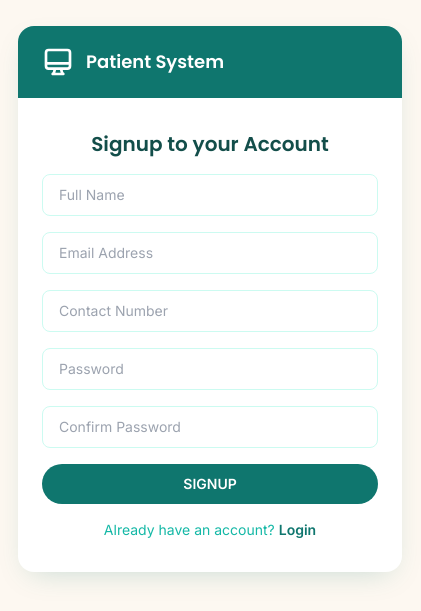
Test: Signup page › shows an error for an invalid contact number
Type "Alina Joe" into the field with placeholder "Full Name". click: (210,195)
box: top-left (42, 174), bottom-right (378, 216)
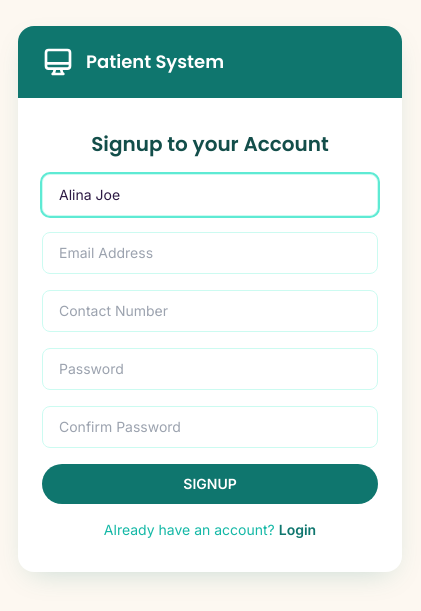
Type "alina@example.com" into the field with placeholder "Email Address". click: (210,253)
box: top-left (42, 232), bottom-right (378, 274)
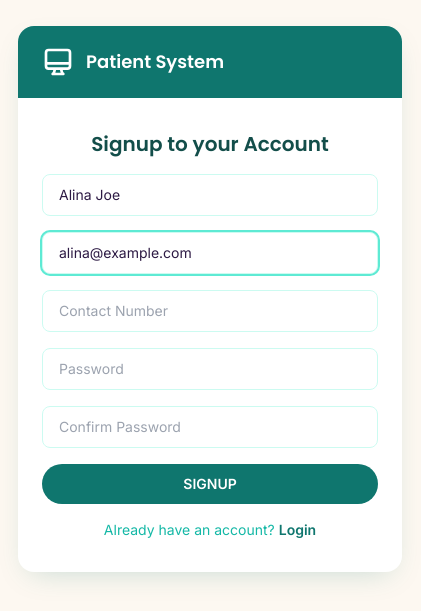
Type "abc" into the field with placeholder "Contact Number". click: (210,311)
box: top-left (42, 290), bottom-right (378, 332)
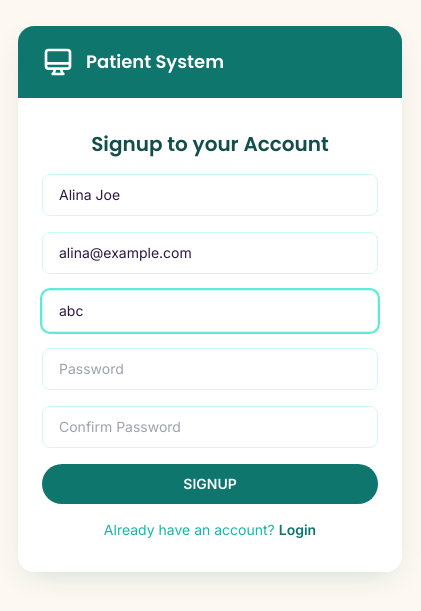
Type "password1" into the password field with placeholder "Password". click: (210,369)
box: top-left (42, 348), bottom-right (378, 390)
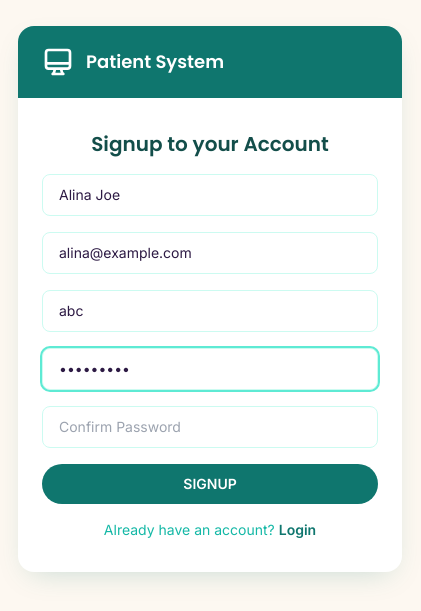
Type "password1" into the password field with placeholder "Confirm Password". click: (210,427)
box: top-left (42, 406), bottom-right (378, 448)
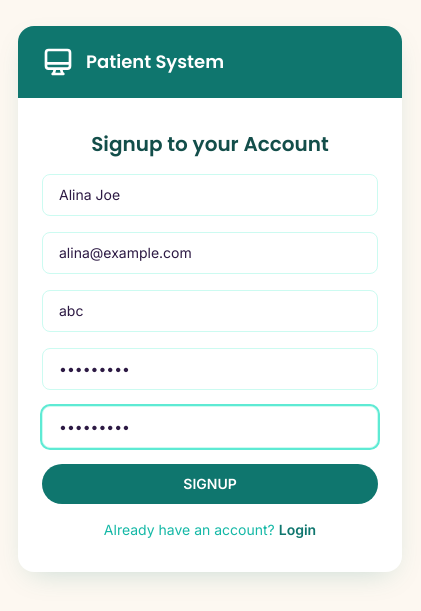
Click the button "SIGNUP". click: (210,484)
box: top-left (42, 464), bottom-right (378, 504)
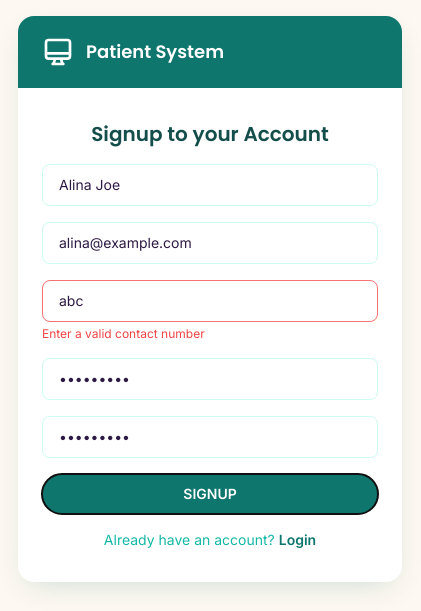
Expected: the text "Enter a valid contact number" is shown, top-left (42, 326), bottom-right (205, 341)
